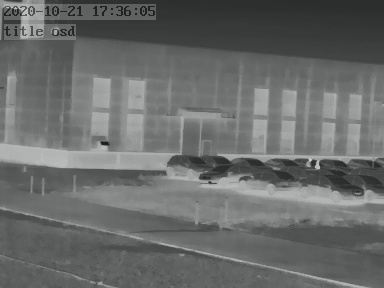vehicle: (303, 172, 363, 203), (242, 169, 301, 190), (165, 152, 210, 179), (201, 161, 247, 184), (350, 173, 383, 200), (230, 154, 271, 172), (345, 155, 382, 171), (259, 155, 296, 169), (318, 155, 351, 170), (300, 154, 319, 168)
